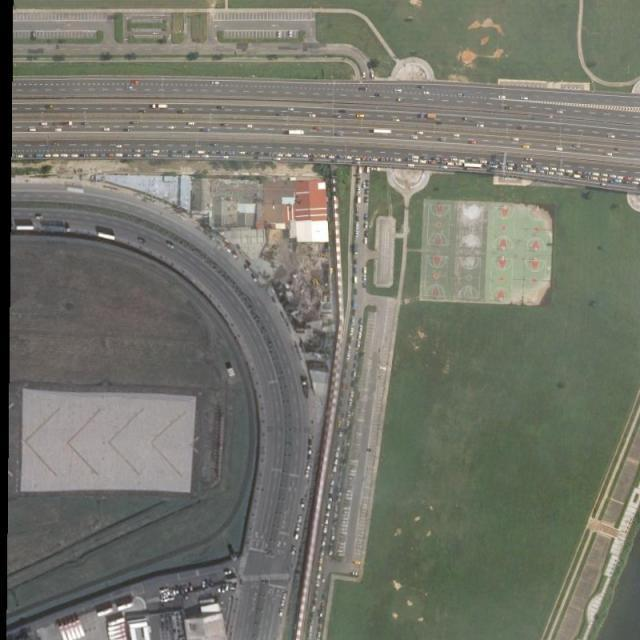vehicle: (42, 226, 70, 233), (76, 620, 86, 638), (108, 627, 125, 637), (72, 622, 82, 639), (68, 622, 77, 640), (108, 622, 124, 632), (63, 624, 73, 640), (66, 186, 85, 194), (109, 618, 125, 627), (118, 603, 134, 612), (97, 609, 113, 618), (98, 233, 115, 241), (110, 632, 126, 640), (302, 381, 309, 398), (59, 626, 67, 640), (373, 129, 393, 134), (54, 122, 73, 126), (421, 114, 436, 119), (465, 163, 482, 167), (17, 226, 34, 230), (152, 105, 168, 109), (289, 130, 304, 134), (166, 243, 174, 249), (439, 165, 448, 170), (469, 139, 477, 144), (122, 127, 132, 131), (131, 80, 140, 84), (354, 245, 358, 254), (574, 174, 581, 179), (452, 134, 460, 138), (446, 162, 454, 166), (394, 158, 402, 162), (336, 132, 344, 136), (166, 126, 174, 130), (102, 127, 110, 131), (198, 150, 206, 154), (182, 154, 190, 158), (398, 98, 406, 102), (346, 410, 350, 418), (349, 398, 353, 406), (511, 138, 519, 142), (411, 135, 418, 139), (439, 138, 446, 142), (371, 158, 378, 162), (302, 154, 309, 158), (393, 118, 400, 122), (314, 126, 321, 130), (178, 110, 185, 114), (187, 122, 194, 126), (126, 86, 133, 90), (278, 31, 282, 38), (357, 114, 364, 118), (61, 154, 68, 158), (37, 154, 44, 158), (379, 366, 386, 370), (350, 391, 354, 398), (350, 328, 354, 335), (334, 459, 338, 466), (36, 216, 43, 220), (334, 466, 338, 473), (530, 170, 537, 174), (600, 178, 607, 182), (591, 177, 598, 181), (566, 170, 573, 174), (476, 124, 485, 127), (201, 129, 210, 132), (450, 158, 458, 161), (412, 155, 418, 159), (319, 154, 325, 158), (238, 152, 246, 155), (211, 82, 219, 85), (362, 72, 366, 78), (217, 106, 225, 109), (114, 144, 122, 147), (116, 154, 122, 158), (72, 154, 78, 158), (362, 182, 366, 188), (357, 341, 361, 347), (354, 277, 358, 283), (363, 268, 367, 274), (365, 197, 369, 203), (366, 181, 370, 187), (346, 420, 350, 426), (525, 158, 533, 161), (358, 196, 361, 204), (336, 452, 340, 458), (542, 167, 550, 170), (419, 160, 426, 163), (455, 163, 462, 166), (429, 161, 436, 164), (407, 164, 414, 167), (354, 158, 361, 161), (285, 154, 292, 157), (276, 154, 283, 157), (246, 125, 253, 128), (289, 31, 292, 38), (309, 114, 316, 117), (153, 150, 160, 153), (89, 154, 96, 157), (81, 154, 88, 157), (52, 154, 59, 157), (15, 155, 22, 158), (395, 89, 402, 92), (423, 91, 430, 94), (354, 561, 361, 564), (356, 222, 359, 229), (365, 238, 368, 245), (358, 187, 361, 194), (351, 318, 354, 325), (573, 145, 580, 148), (506, 167, 513, 170), (547, 172, 554, 175), (615, 180, 622, 183), (558, 169, 565, 172), (353, 572, 358, 576), (417, 131, 423, 134), (30, 129, 36, 132), (371, 72, 374, 78), (222, 156, 228, 159), (202, 155, 208, 158), (134, 154, 140, 157), (108, 154, 114, 157), (347, 354, 350, 360), (363, 276, 366, 282), (365, 222, 368, 228), (365, 214, 368, 220), (338, 445, 341, 451), (556, 148, 562, 151), (557, 111, 563, 114), (608, 135, 614, 138), (634, 178, 640, 181), (632, 182, 638, 185), (610, 175, 616, 178), (601, 174, 607, 177), (593, 173, 599, 176), (551, 168, 557, 171), (54, 129, 62, 131), (521, 98, 529, 100), (41, 123, 46, 126), (101, 154, 106, 157), (318, 633, 321, 638), (359, 334, 362, 339), (366, 189, 369, 194), (618, 177, 623, 180), (411, 160, 418, 162), (151, 154, 158, 156), (491, 166, 498, 168), (606, 154, 613, 156), (499, 96, 506, 98), (328, 156, 334, 158), (288, 108, 294, 110), (274, 158, 280, 160), (46, 154, 50, 157), (458, 94, 464, 96), (360, 326, 362, 332), (523, 146, 529, 148), (557, 173, 563, 175), (134, 150, 139, 152), (356, 231, 358, 236), (525, 166, 530, 168)
